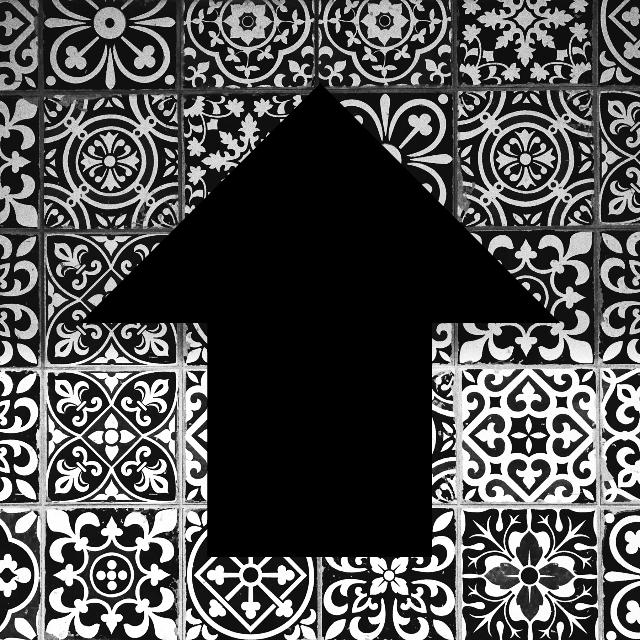UP: (86, 85, 554, 556)
